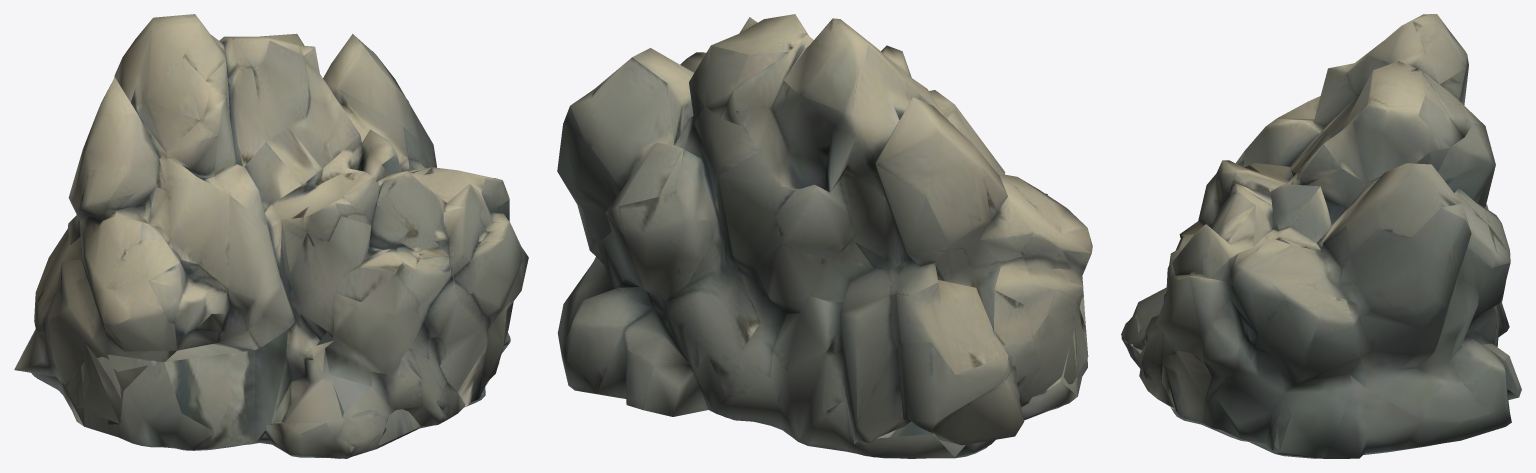
The model's file is crag.glb.
3 renders of one model, left to right at view 1: azimuth 30°, elevation 25°; view 2: azimuth 150°, elevation 25°; view 3: azimuth 270°, elevation 25°, orthographic. The views are drawn at different scales.
Parts seen in each view (by area): view 1: CRAG; view 2: CRAG; view 3: CRAG.
Boxes of the visible parts, left/top/right/bottom form: CRAG: left=14, top=14, right=528, bottom=458; CRAG: left=557, top=14, right=1092, bottom=458; CRAG: left=1121, top=14, right=1521, bottom=458.
Bounding box in the file's own units: 2.7 × 2.03 × 2.3.
Materials: 1 (1 with a texture image).
